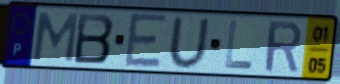B: (72, 12, 116, 66)
E: (123, 11, 169, 70)
L: (222, 18, 255, 71)
M: (30, 10, 81, 65)
R: (263, 20, 303, 75)
U: (167, 17, 212, 71)
